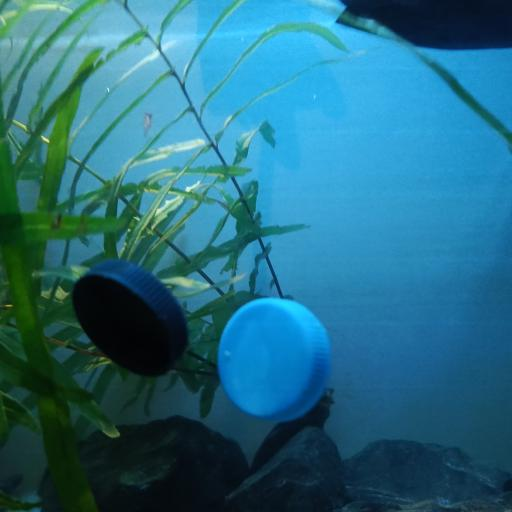bottle_cap: (70, 258, 188, 377), (221, 300, 332, 417)
mask: (332, 0, 512, 54)
